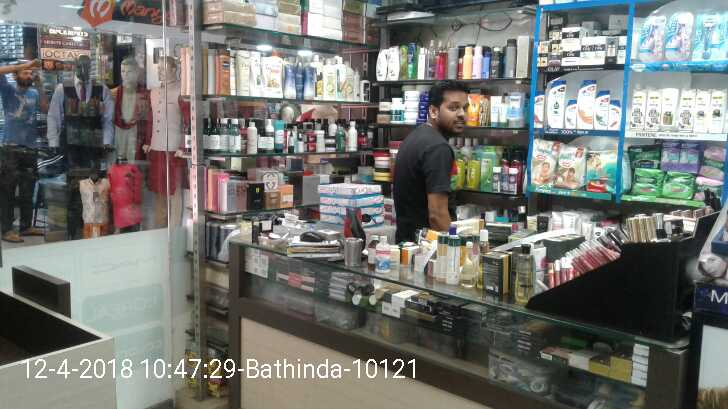venus: (694, 13, 726, 61), (666, 11, 693, 58), (640, 16, 662, 59)
